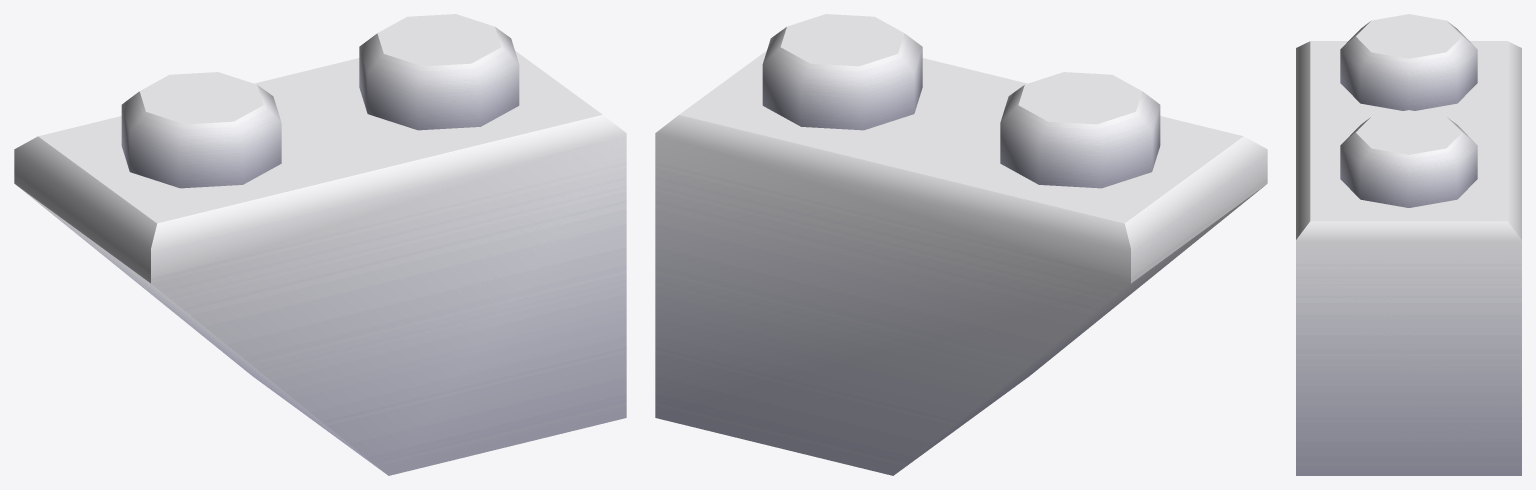
The model's file is round-hq-brick-slope-inverted-1x2.glb.
The picture shows the model from 3 angles, left to right: view 1: azimuth 30°, elevation 25°; view 2: azimuth 150°, elevation 25°; view 3: azimuth 270°, elevation 25°; orthographic projection. The views are drawn at different scales.
Visible parts, largest first — view 1: round-hq-brick-slope-inverted-1x2; view 2: round-hq-brick-slope-inverted-1x2; view 3: round-hq-brick-slope-inverted-1x2.
Part boxes in pixels (bbox=[...]): round-hq-brick-slope-inverted-1x2: bbox=[14, 14, 626, 475]; round-hq-brick-slope-inverted-1x2: bbox=[655, 14, 1267, 475]; round-hq-brick-slope-inverted-1x2: bbox=[1296, 14, 1521, 475].
Bounding box in the file's own units: 0.795 × 0.57 × 0.395.
1 material, 1 textured.
